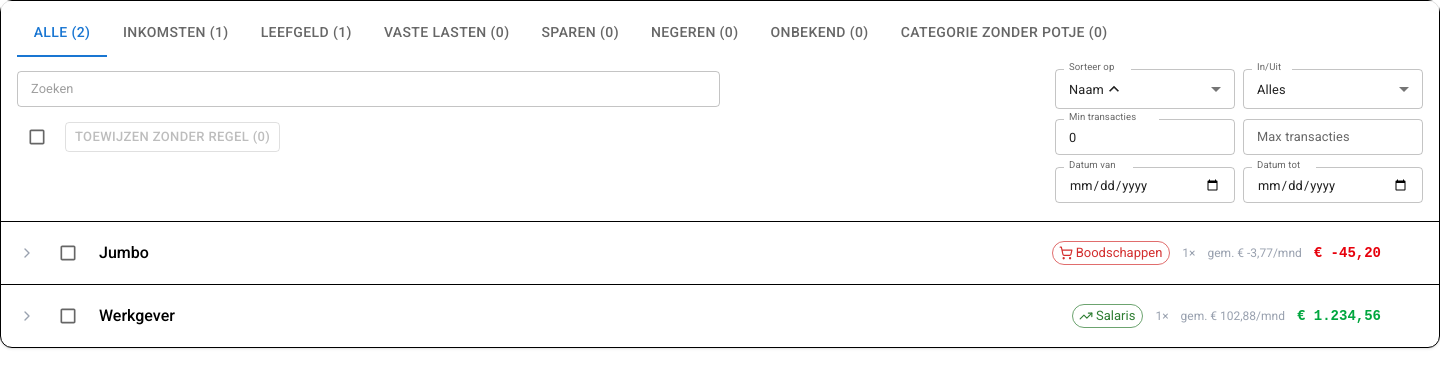
Scenario: CategoryBreakdown › searches in potje, bedrag and omschrijving
Type "salaris" into the field labelled "Zoeken".
click(368, 89); type("salaris")  # box [17,71,720,107]
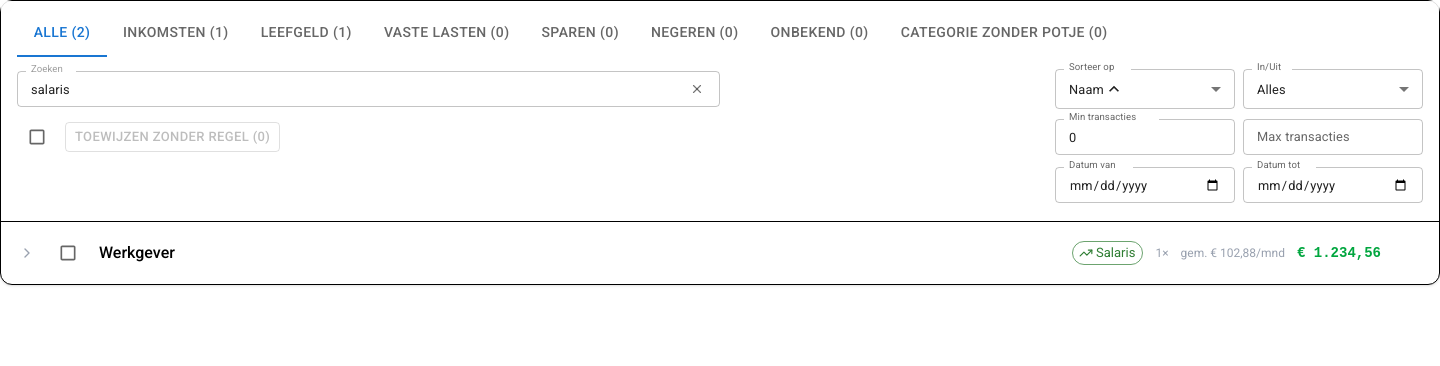
Expected: the text "Werkgever" is shown, [99,243,175,262]
Expected: the button "Jumbo" is gone
Replace the text in the field labelled "Zoeken" with "1234,56" at (347, 89), box [17,71,677,107]
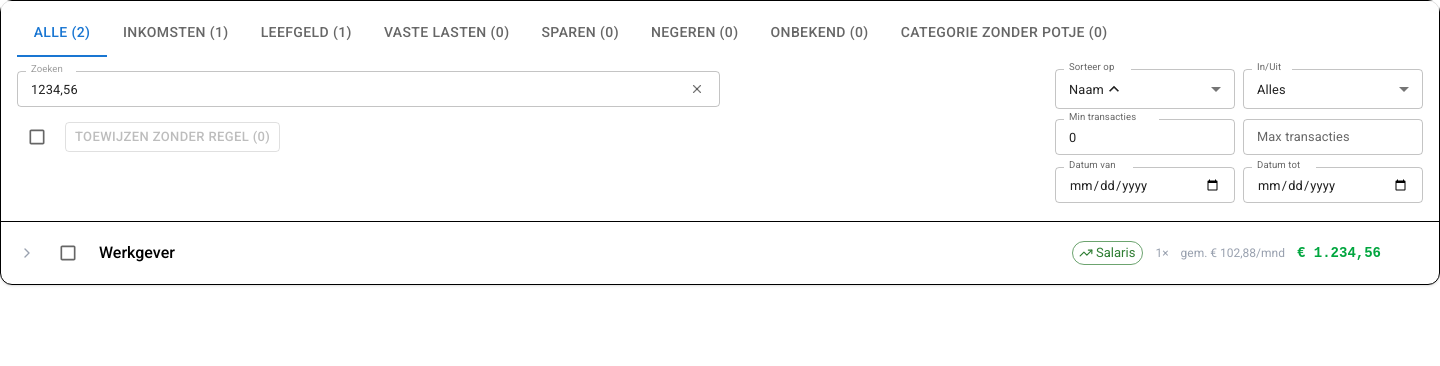
Expected: the text "Werkgever" is shown, [99,243,175,262]
Expected: the button "Jumbo" is not shown
Replace the text in the field labelled "Zoeken" with "week 14" at (347, 89), box [17,71,677,107]
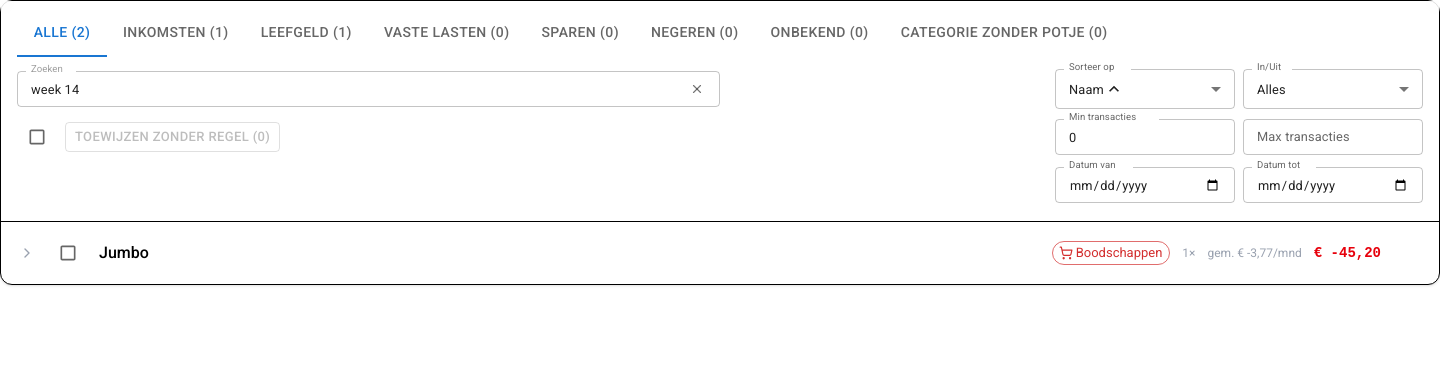
Expected: the text "Jumbo" is shown, [99,243,149,262]
Expected: the button "Werkgever" is gone
